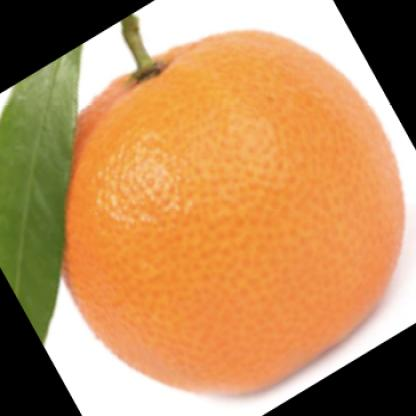fresh: (57, 28, 408, 394)
